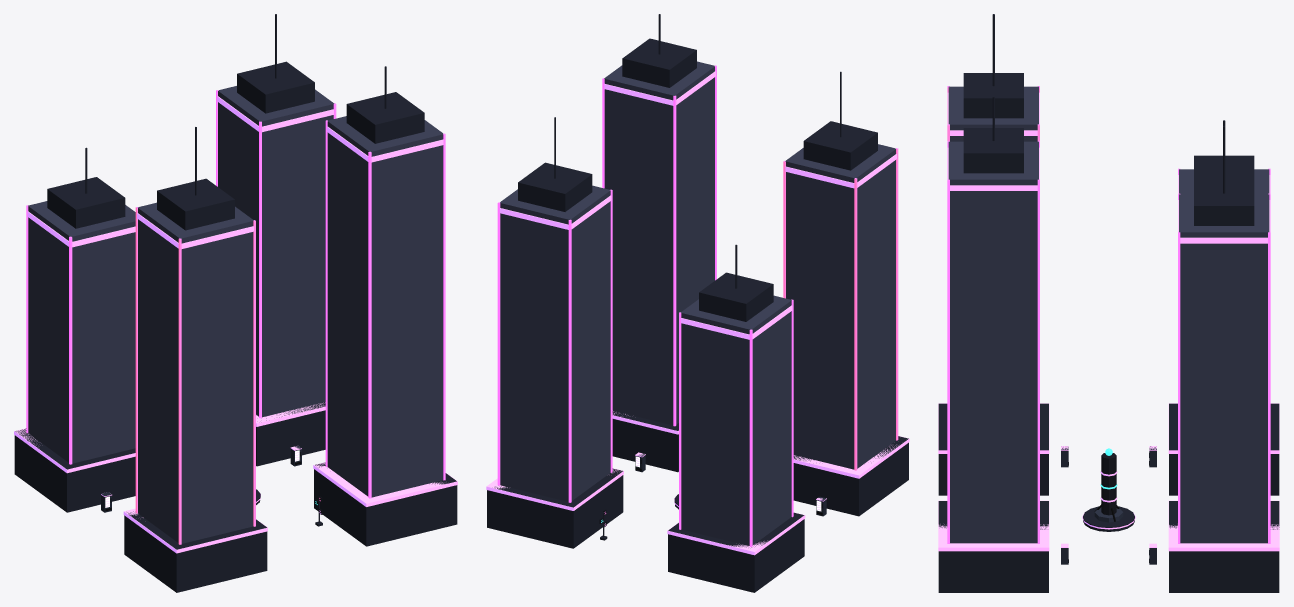
3 views of the same model, side by side, from view 1: azimuth 30°, elevation 25°; view 2: azimuth 150°, elevation 25°; view 3: azimuth 270°, elevation 25° (orthographic). The views are drawn at different scales.
Visible parts, largest first — view 1: district_city_cero.lod1; view 2: district_city_cero.lod1; view 3: district_city_cero.lod1.
Part boxes in pixels (left/top/right/bottom): district_city_cero.lod1: left=14, top=14, right=457, bottom=592; district_city_cero.lod1: left=486, top=14, right=909, bottom=592; district_city_cero.lod1: left=938, top=14, right=1279, bottom=592.
Size of the model in its own units: 34.1 by 52.07 by 34.1.
